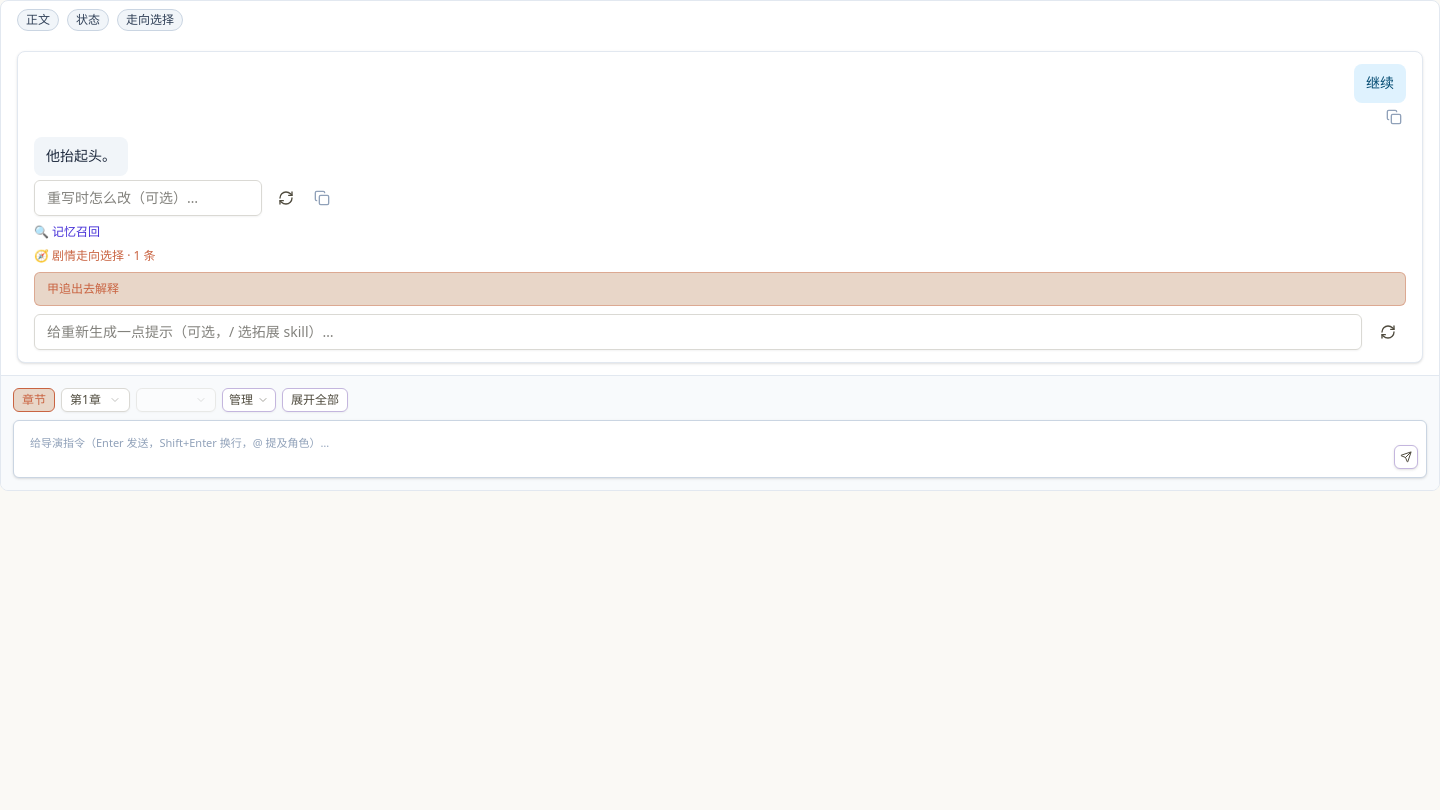
StorySandboxPanel › clears the composer card after deleting the current branch
Expected: the text "他抬起头。" is shown, [46,145,116,168]
Click the button "甲追出去解释": [83, 288] box [34,272,1406,306]
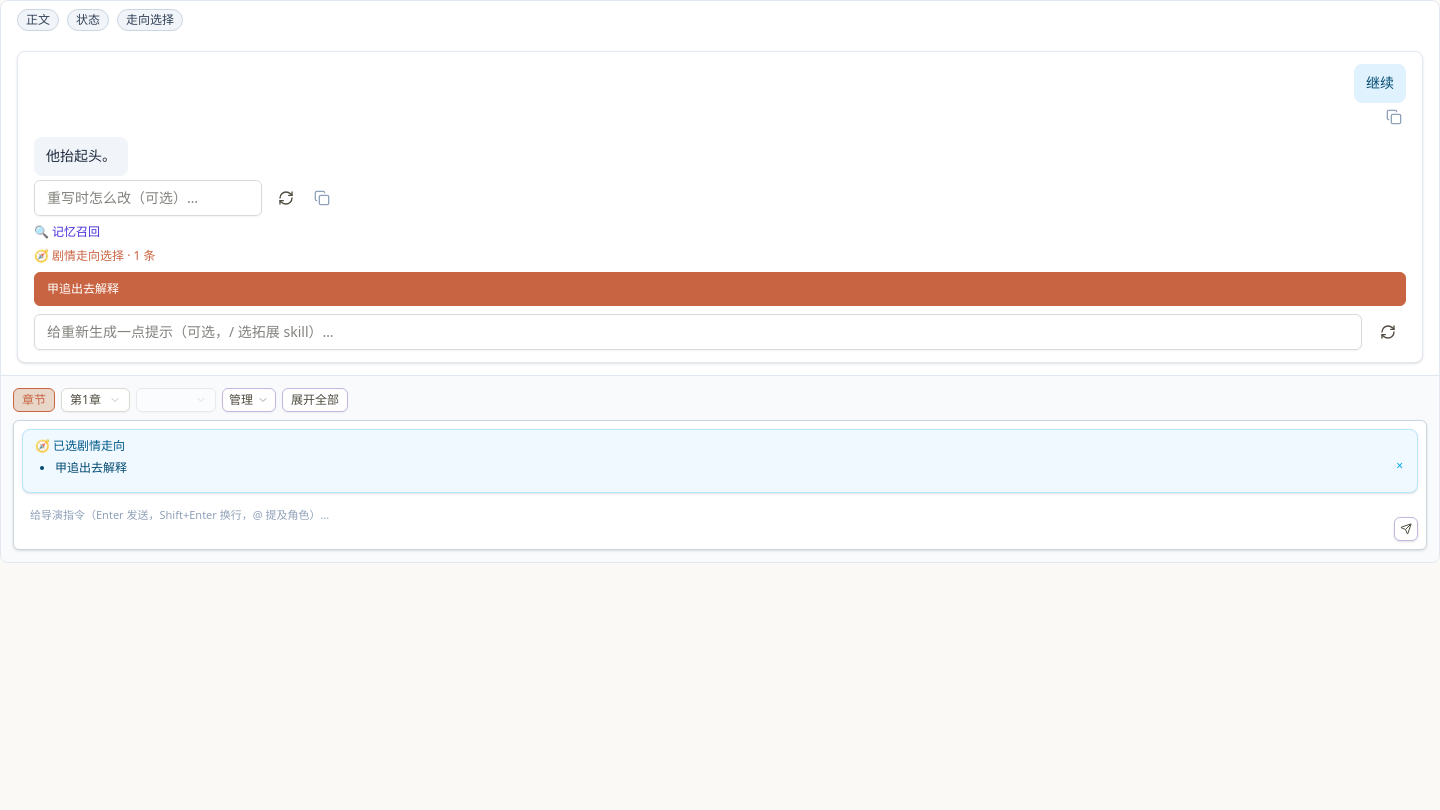
Now the text "🧭 已选剧情走向" is shown, box [35,436,125,454]
Click the button with aria-label "故事线操作": [249, 400] box [222,388,276,412]
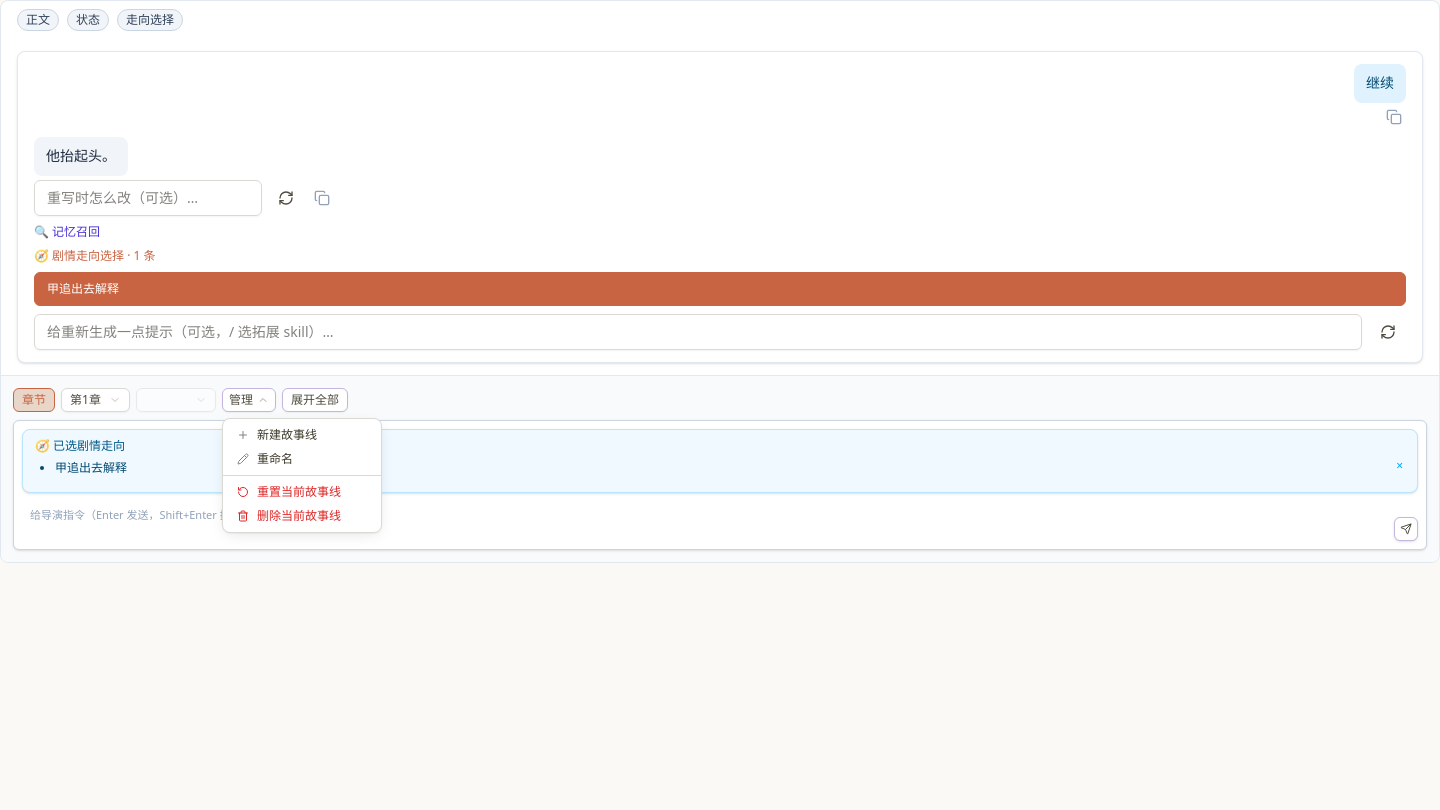
Click the menu item "删除当前故事线": [289, 516] box [237,507,341,524]
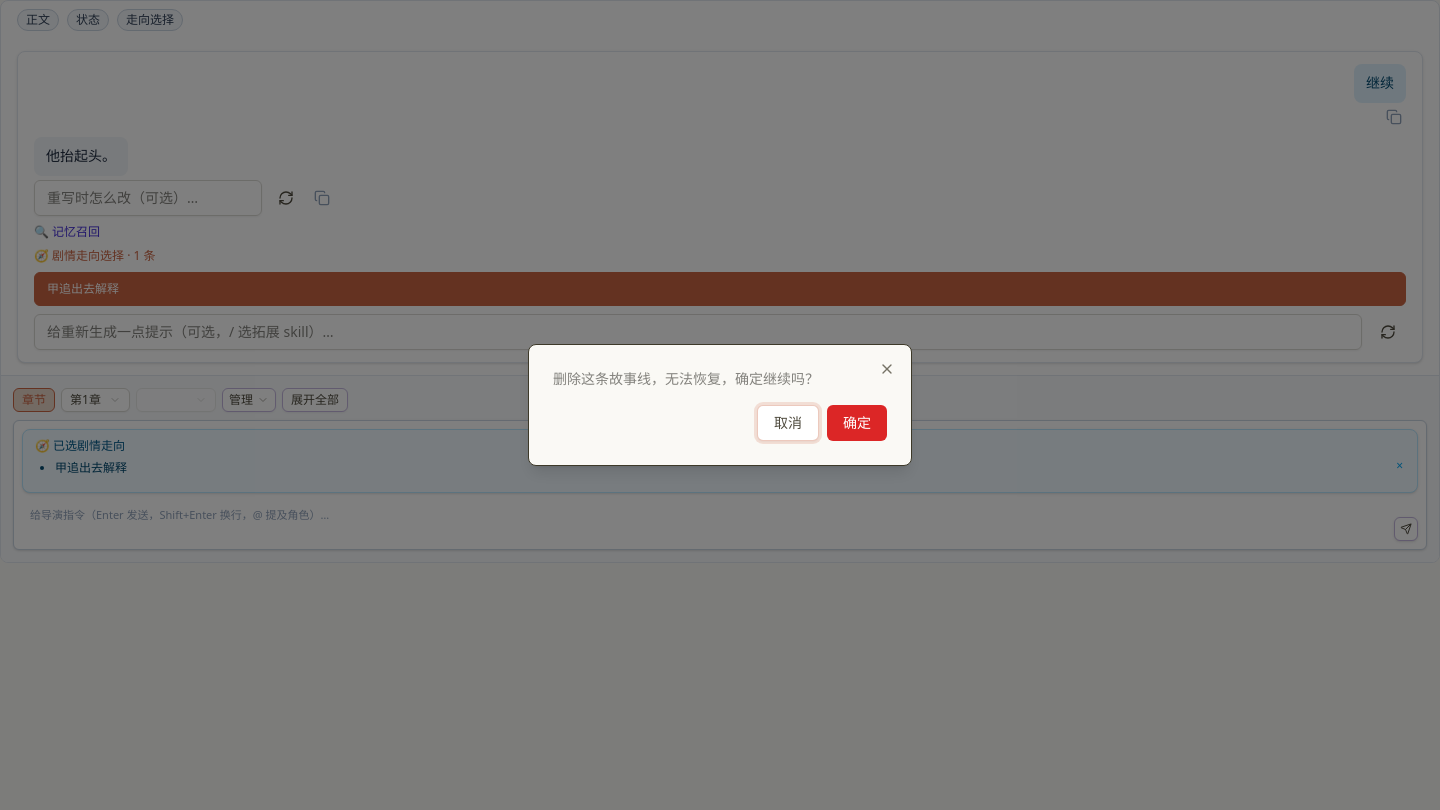
Now the text "删除这条故事线，无法恢复，确定继续吗？" is shown, box [553,369,819,388]
Click the button "确定": [857, 423] box [827,405,887,441]
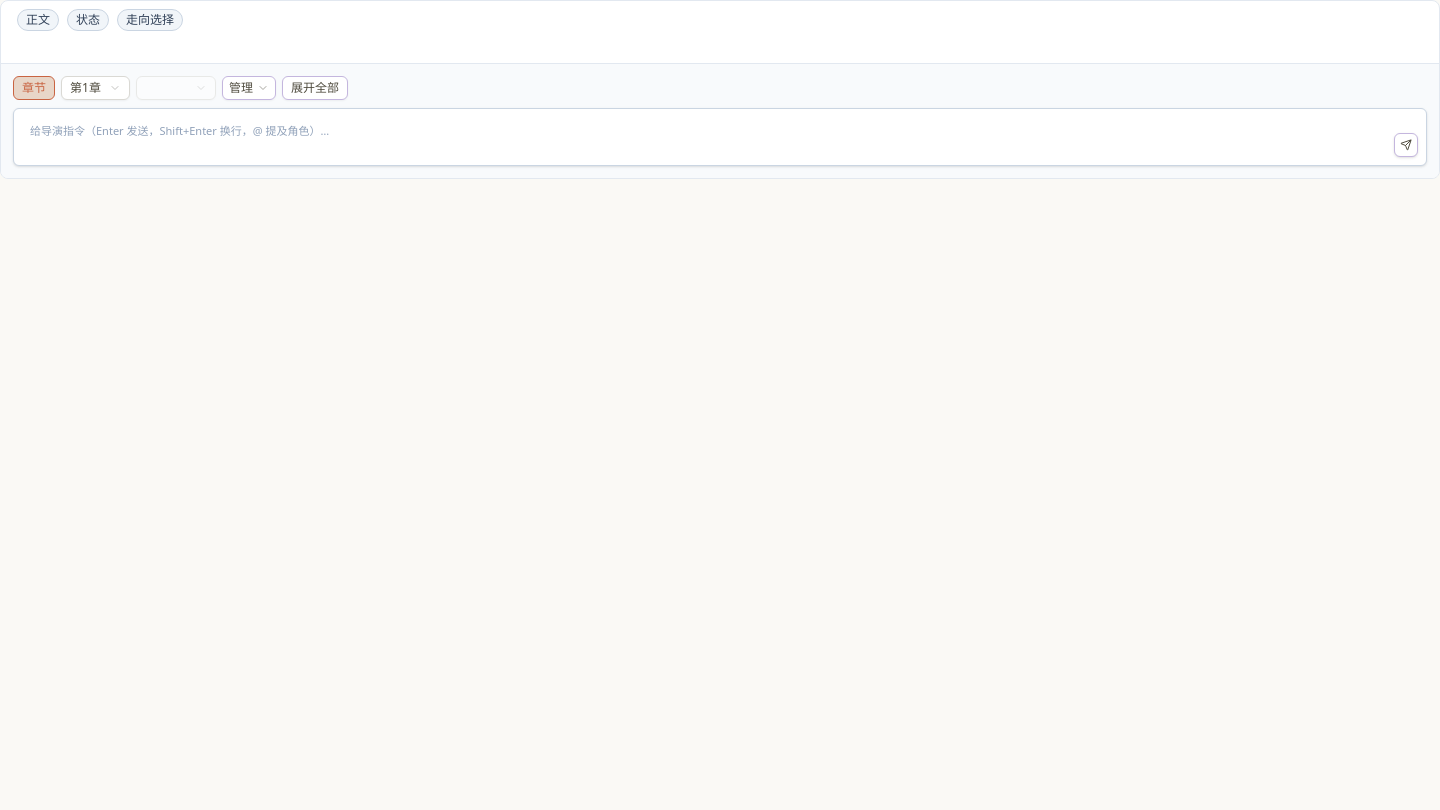
Now the text "🧭 已选剧情走向" is gone
